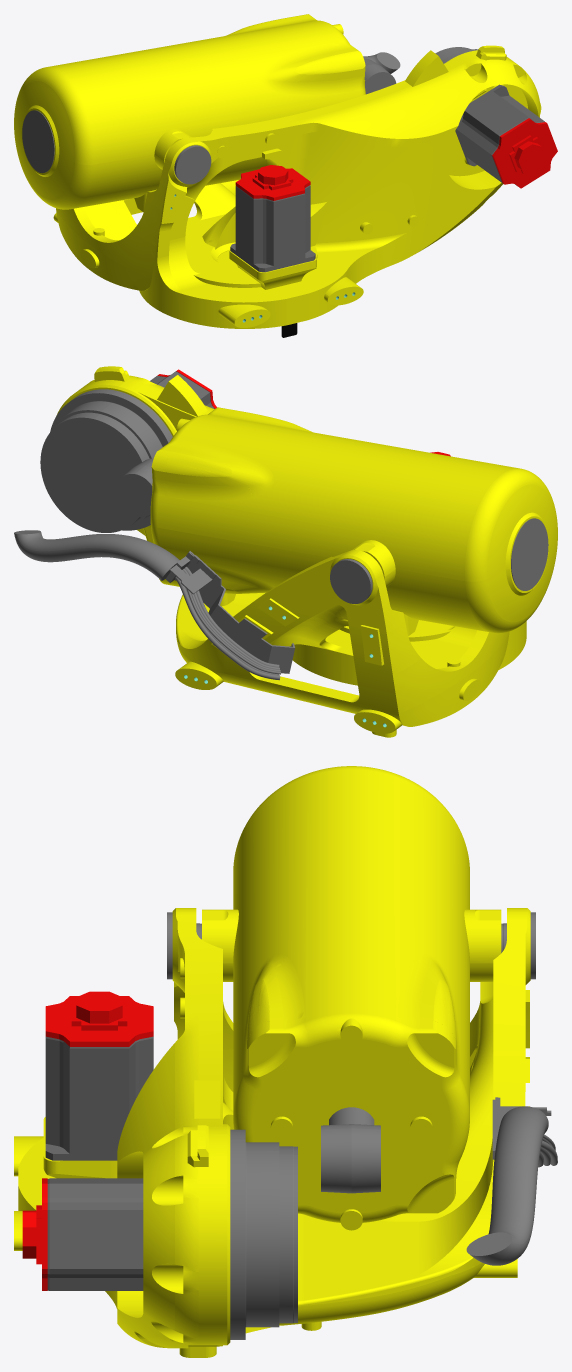
3 renders of one model, top to bottom at view 1: azimuth 30°, elevation 25°; view 2: azimuth 150°, elevation 25°; view 3: azimuth 270°, elevation 25°, orthographic. The views are drawn at different scales.
Parts seen in each view (by area): view 1: Mesh_0; view 2: Mesh_0; view 3: Mesh_0.
Boxes of the visible parts, left/top/right/bottom form: Mesh_0: left=14, top=14, right=557, bottom=337; Mesh_0: left=14, top=366, right=557, bottom=737; Mesh_0: left=14, top=766, right=557, bottom=1357.
Bounding box in the file's own units: 1.39 × 0.8773 × 0.6696.
